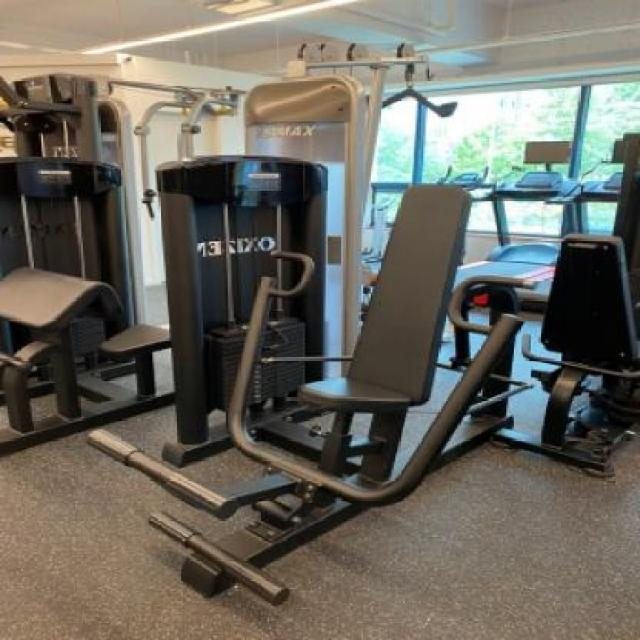Chest Press machine: (75, 35, 640, 620)
